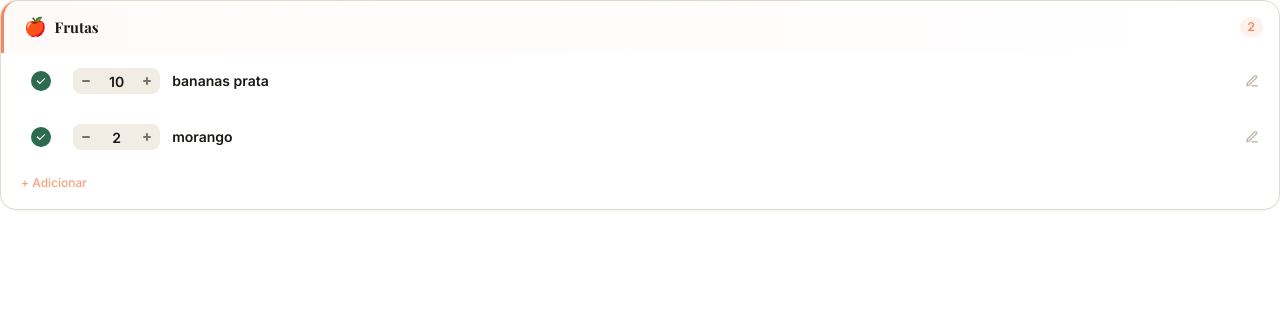
Test: CategoriaCard › botão adicionar mostra itens extras ao clicar
Click the button "+ Adicionar" at (54, 183), box top-left (21, 175), bottom-right (87, 191)
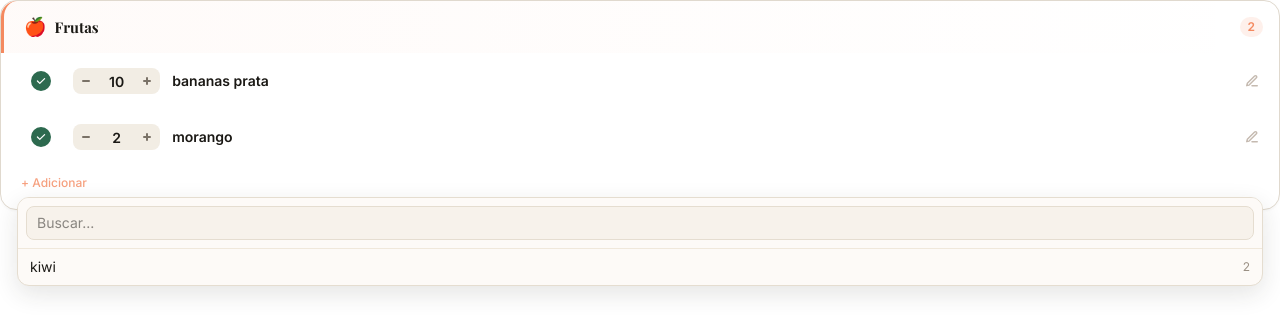
Now the text "kiwi" is shown, box top-left (30, 257), bottom-right (56, 277)
